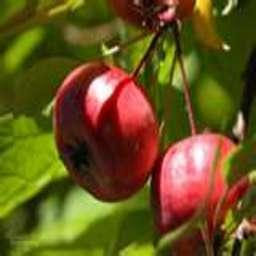apple: (49, 61, 159, 203), (153, 133, 246, 248)
